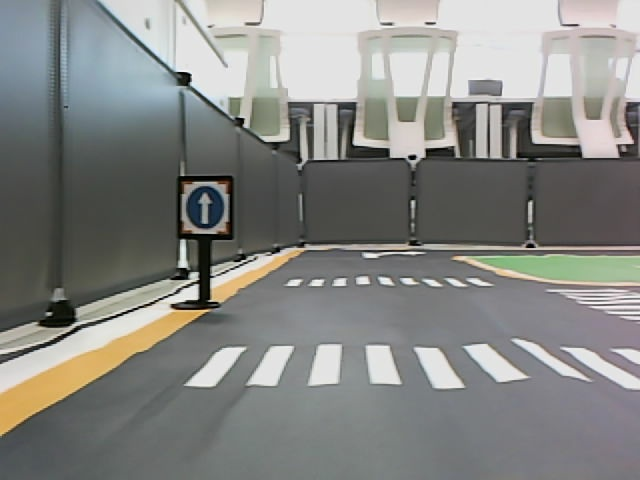crosswalk: (183, 342, 640, 392), (280, 275, 496, 290)
go: (186, 187, 225, 229)
